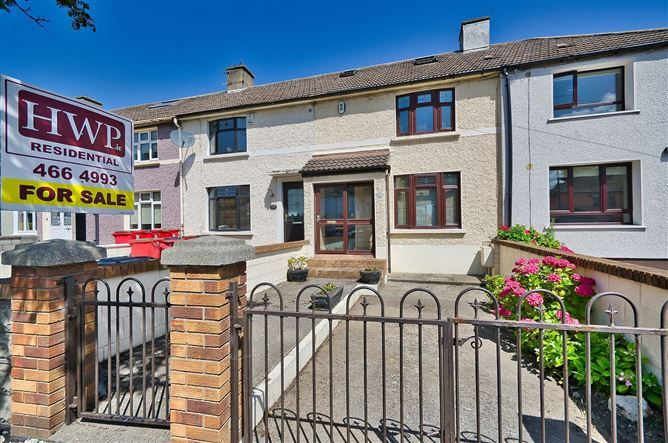property sign: (1, 66, 142, 224)
